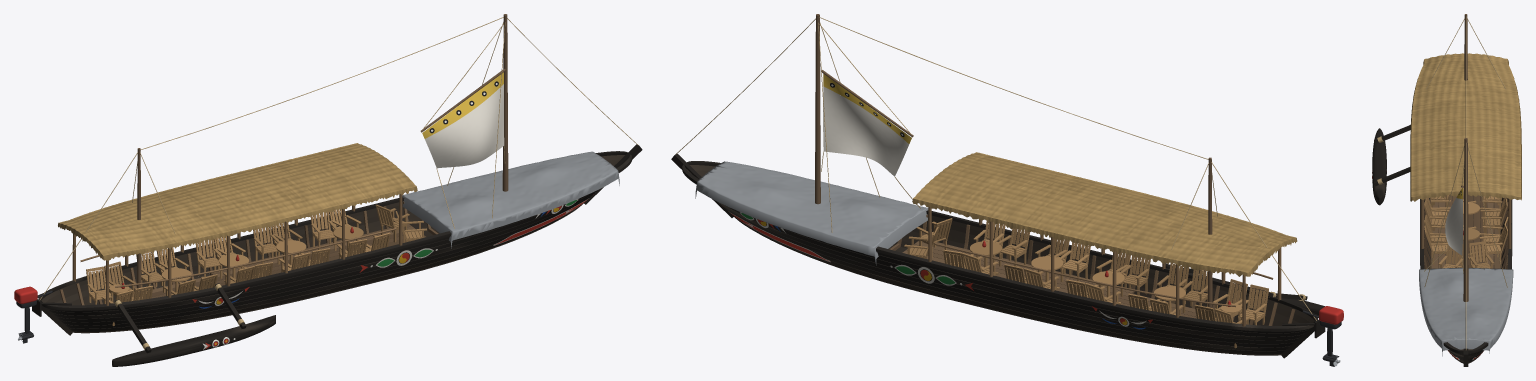
The model's file is baleiniere-loisirs.glb.
3 views of the same model, side by side, from view 1: azimuth 30°, elevation 25°; view 2: azimuth 150°, elevation 25°; view 3: azimuth 270°, elevation 25° (orthographic). The views are drawn at different scales.
Visible parts, largest first — view 1: toit_raphia, bache_avant, chaises, plat_bord, voile_toile, flotteur, bordage_tribord_3, structure_toit, bordage_tribord_4, bordage_tribord_5, bordage_tribord_1, bordage_tribord_6 (+17 smaller); view 2: toit_raphia, bache_avant, chaises, plat_bord, voile_toile, structure_toit, bordage_babord_3, bordage_babord_4, bordage_babord_5, bordage_babord_6, bordage_babord_1, bordage_babord_2 (+15 smaller); view 3: toit_raphia, bache_avant, chaises, plancher, cordages, mats_et_vergue, flotteur, voile_toile, membrures, plat_bord, traverses_balancier, structure_toit (+2 smaller).
Part boxes in pixels (left/top/right/bottom): toit_raphia: left=58, top=143, right=417, bottom=260; bache_avant: left=402, top=151, right=619, bottom=248; chaises: left=86, top=204, right=426, bottom=325; plat_bord: left=38, top=151, right=632, bottom=310; voile_toile: left=425, top=84, right=504, bottom=168; flotteur: left=112, top=315, right=275, bottom=366; bordage_tribord_3: left=60, top=192, right=595, bottom=325; structure_toit: left=72, top=194, right=402, bottom=305; bordage_tribord_4: left=56, top=190, right=597, bottom=322; bordage_tribord_5: left=51, top=192, right=592, bottom=318; bordage_tribord_1: left=68, top=205, right=580, bottom=331; bordage_tribord_6: left=47, top=213, right=541, bottom=315; toit_raphia: left=912, top=152, right=1297, bottom=276; bache_avant: left=695, top=161, right=928, bottom=265; chaises: left=904, top=218, right=1268, bottom=348; plat_bord: left=682, top=161, right=1317, bottom=331; voile_toile: left=823, top=86, right=908, bottom=176; structure_toit: left=928, top=207, right=1281, bottom=326; bordage_babord_3: left=718, top=202, right=1294, bottom=347; bordage_babord_4: left=718, top=202, right=1298, bottom=343; bordage_babord_5: left=725, top=205, right=1304, bottom=340; bordage_babord_6: left=691, top=173, right=1308, bottom=336; bordage_babord_1: left=739, top=220, right=1285, bottom=354; bordage_babord_2: left=726, top=209, right=1290, bottom=350; toit_raphia: left=1410, top=53, right=1521, bottom=201; bache_avant: left=1419, top=267, right=1513, bottom=356; chaises: left=1424, top=195, right=1508, bottom=268; plancher: left=1431, top=195, right=1500, bottom=268; cordages: left=1424, top=16, right=1507, bottom=350; mats_et_vergue: left=1461, top=14, right=1468, bottom=301; flotteur: left=1372, top=128, right=1386, bottom=205; voile_toile: left=1445, top=198, right=1463, bottom=255; membrures: left=1424, top=195, right=1508, bottom=349; plat_bord: left=1420, top=198, right=1512, bottom=353; traverses_balancier: left=1374, top=125, right=1410, bottom=186; structure_toit: left=1421, top=199, right=1511, bottom=248.
Size of the model in its own units: 19.09 by 6.34 by 4.29.
